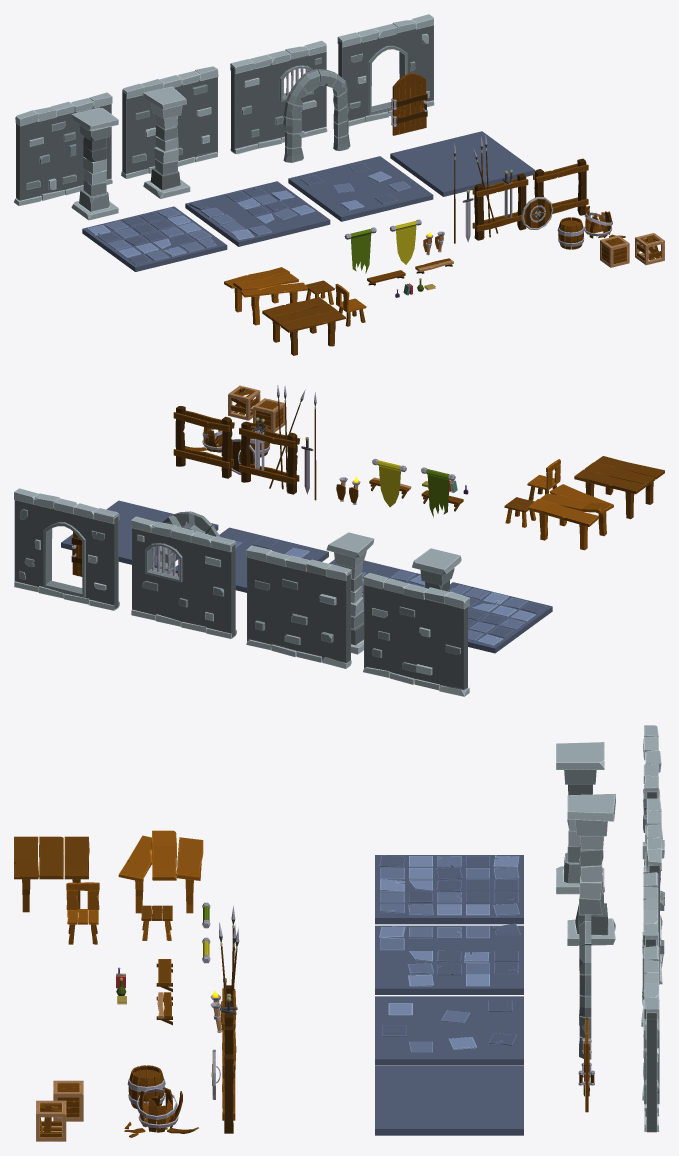
Rendered from Dungeon Tiles (v1.0.1).fbx.
The picture shows the model from 3 angles, top to bottom: view 1: azimuth 30°, elevation 25°; view 2: azimuth 150°, elevation 25°; view 3: azimuth 270°, elevation 25°; orthographic projection. The views are drawn at different scales.
Parts seen in each view (by area): view 1: Wall 3, Wall 1, Wall 2, Wall 4, Floor 1, Floor 2, Floor 3, Floor 4, Column 1, Column 2, Stone arch, Weapon stack 1 (+12 smaller); view 2: Wall 1, Wall 2, Wall 3, Wall 4, Floor 1, Weapon stack 1, Table 2, Table 1, Column 2, Weapon stack 2, Floor 3, Floor 4 (+10 smaller); view 3: Floor 2, Floor 3, Floor 4, Floor 1, Column 2, Table 2, Table 1, Column 1, Wall 4, Barrel 2, Wall 2, Stone arch (+10 smaller).
Part boxes in pixels (x1,y1,x2,y2): Wall 3: (230, 40, 327, 154); Wall 1: (14, 92, 112, 205); Wall 2: (121, 66, 218, 178); Wall 4: (337, 14, 434, 126); Floor 1: (82, 206, 227, 271); Floor 2: (185, 181, 330, 246); Floor 3: (288, 156, 433, 221); Floor 4: (390, 131, 535, 196); Column 1: (71, 107, 118, 220); Column 2: (143, 86, 190, 198); Stone arch: (283, 69, 350, 162); Weapon stack 1: (472, 135, 528, 240); Wall 1: (363, 573, 469, 696); Wall 2: (246, 545, 351, 668); Wall 3: (131, 516, 236, 638); Wall 4: (14, 488, 119, 610); Floor 1: (450, 582, 552, 653); Weapon stack 1: (239, 385, 305, 494); Table 2: (528, 484, 613, 550); Table 1: (574, 456, 664, 519); Column 2: (326, 532, 374, 654); Weapon stack 2: (173, 406, 234, 478); Floor 3: (175, 527, 328, 592); Floor 4: (61, 500, 218, 567); Floor 2: (375, 923, 523, 994); Floor 3: (375, 996, 523, 1065); Floor 4: (375, 1066, 523, 1135); Floor 1: (375, 855, 523, 924); Column 2: (567, 793, 615, 945); Table 2: (118, 830, 203, 913); Table 1: (14, 836, 89, 912); Column 1: (556, 742, 604, 894); Wall 4: (642, 946, 659, 1132); Barrel 2: (124, 1087, 198, 1137); Wall 2: (645, 798, 664, 984); Stone arch: (579, 914, 591, 1059).
Size of the model in its own units: 933 by 209 by 873.
